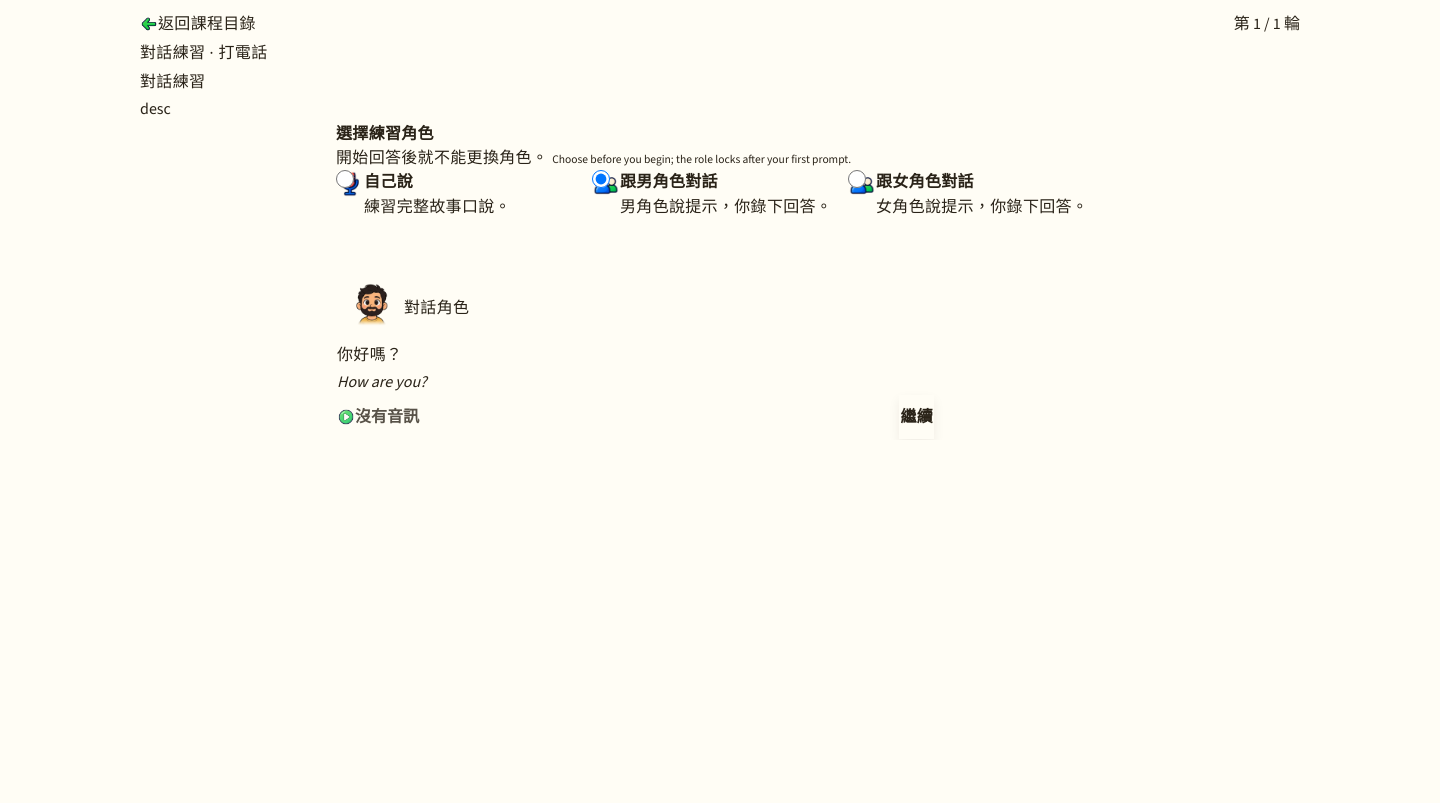
ConversationPage › does not label an unverified recorder result as verified
Click the button "繼續": x=917, y=417 [899,395,934,439]
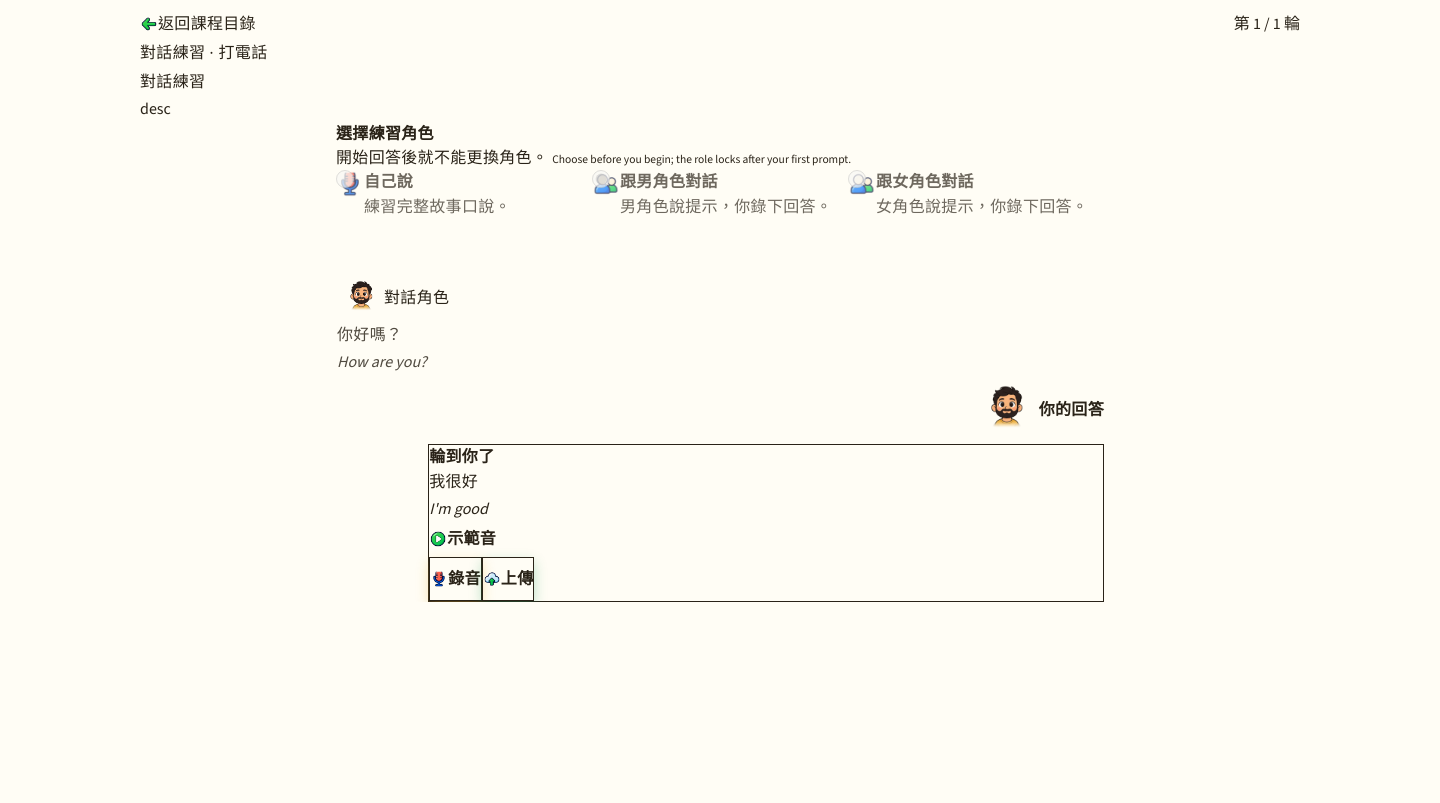
Click the button "錄音": x=456, y=579 [429,557,482,601]
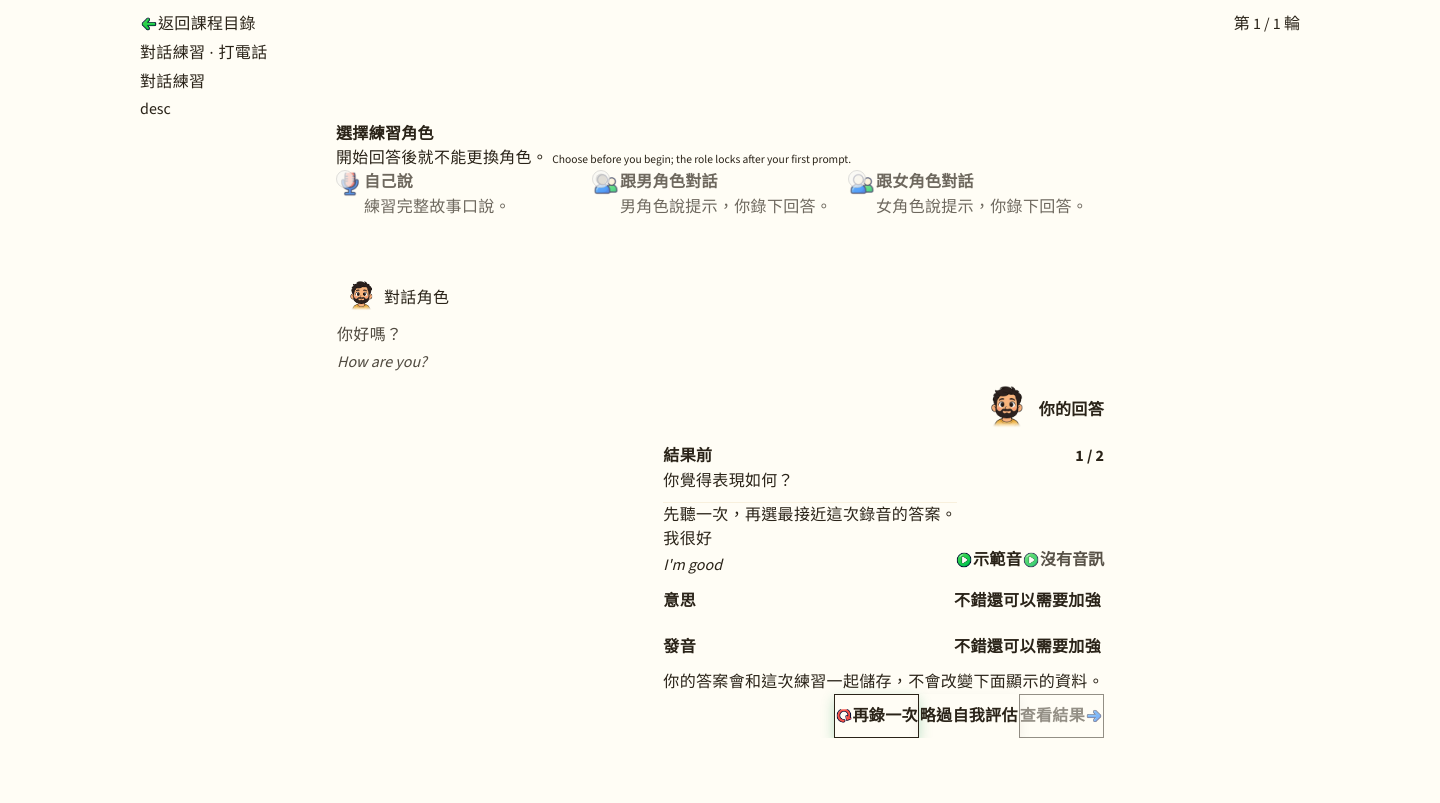
expect the text "你覺得表現如何？" is shown: met, box [663,469,794,494]
Click the button "略過自我評估": x=969, y=716 [919,694,1019,738]
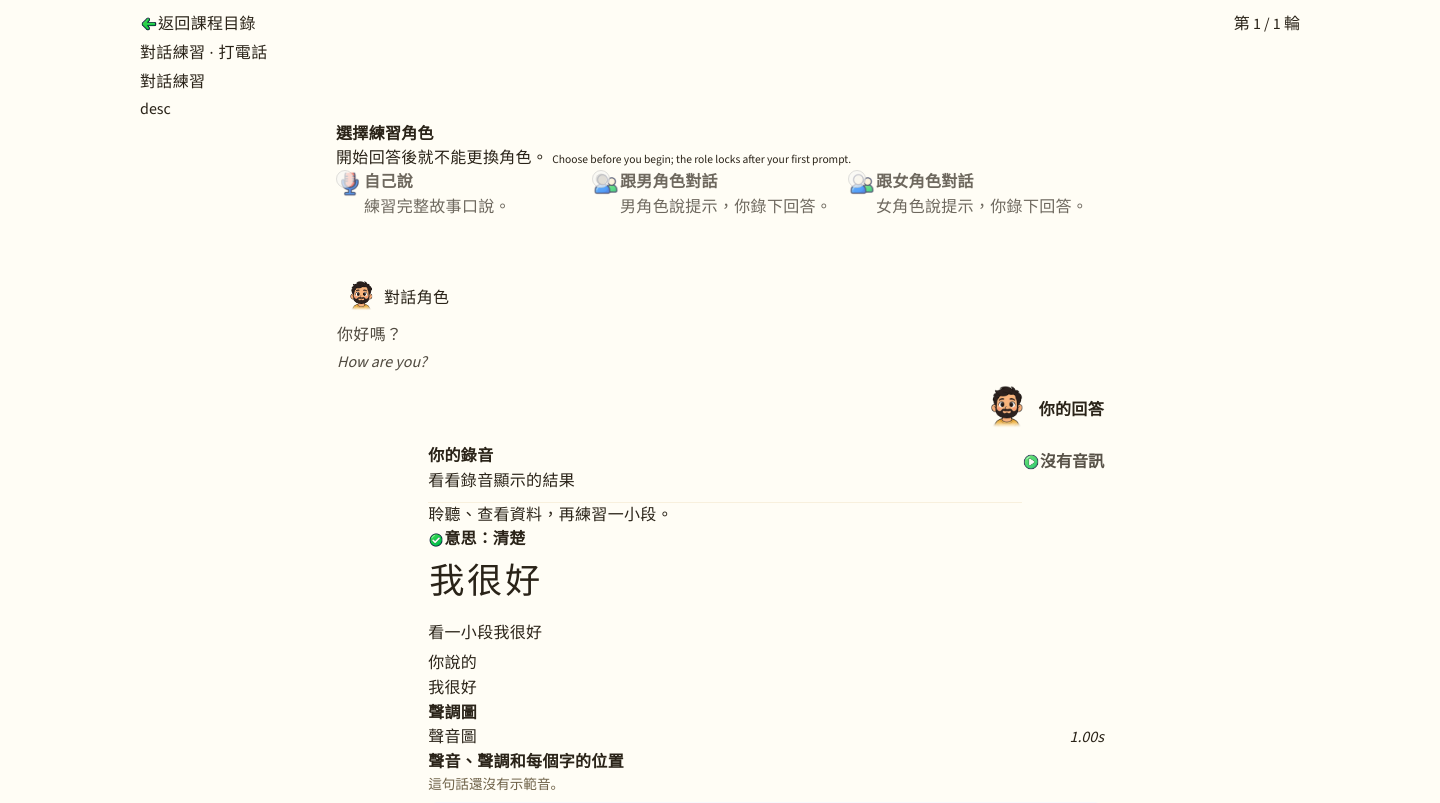
expect the text "你的錄音" is shown: met, box [428,444,494,469]
